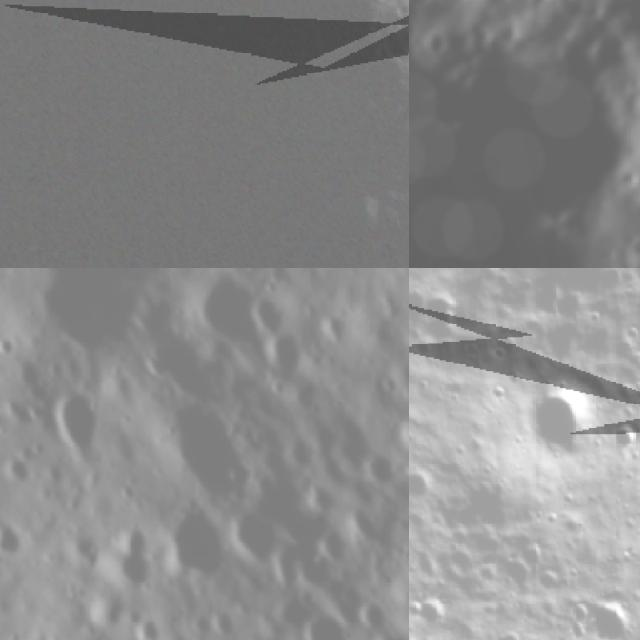crater: (146, 387, 274, 527), (510, 360, 630, 478), (145, 501, 256, 610), (177, 268, 283, 376), (136, 320, 233, 430), (33, 374, 125, 476), (82, 512, 174, 605), (311, 396, 398, 492), (214, 503, 298, 587), (254, 321, 328, 395), (567, 580, 640, 640), (342, 584, 405, 640), (310, 515, 366, 576), (543, 275, 601, 333), (336, 499, 391, 560), (409, 582, 462, 638), (0, 443, 47, 506), (293, 601, 366, 640), (0, 511, 38, 574), (122, 603, 181, 640), (409, 453, 443, 510), (480, 609, 540, 640), (389, 400, 409, 479), (608, 415, 640, 462), (0, 323, 28, 372), (0, 394, 20, 450), (235, 625, 306, 640)
